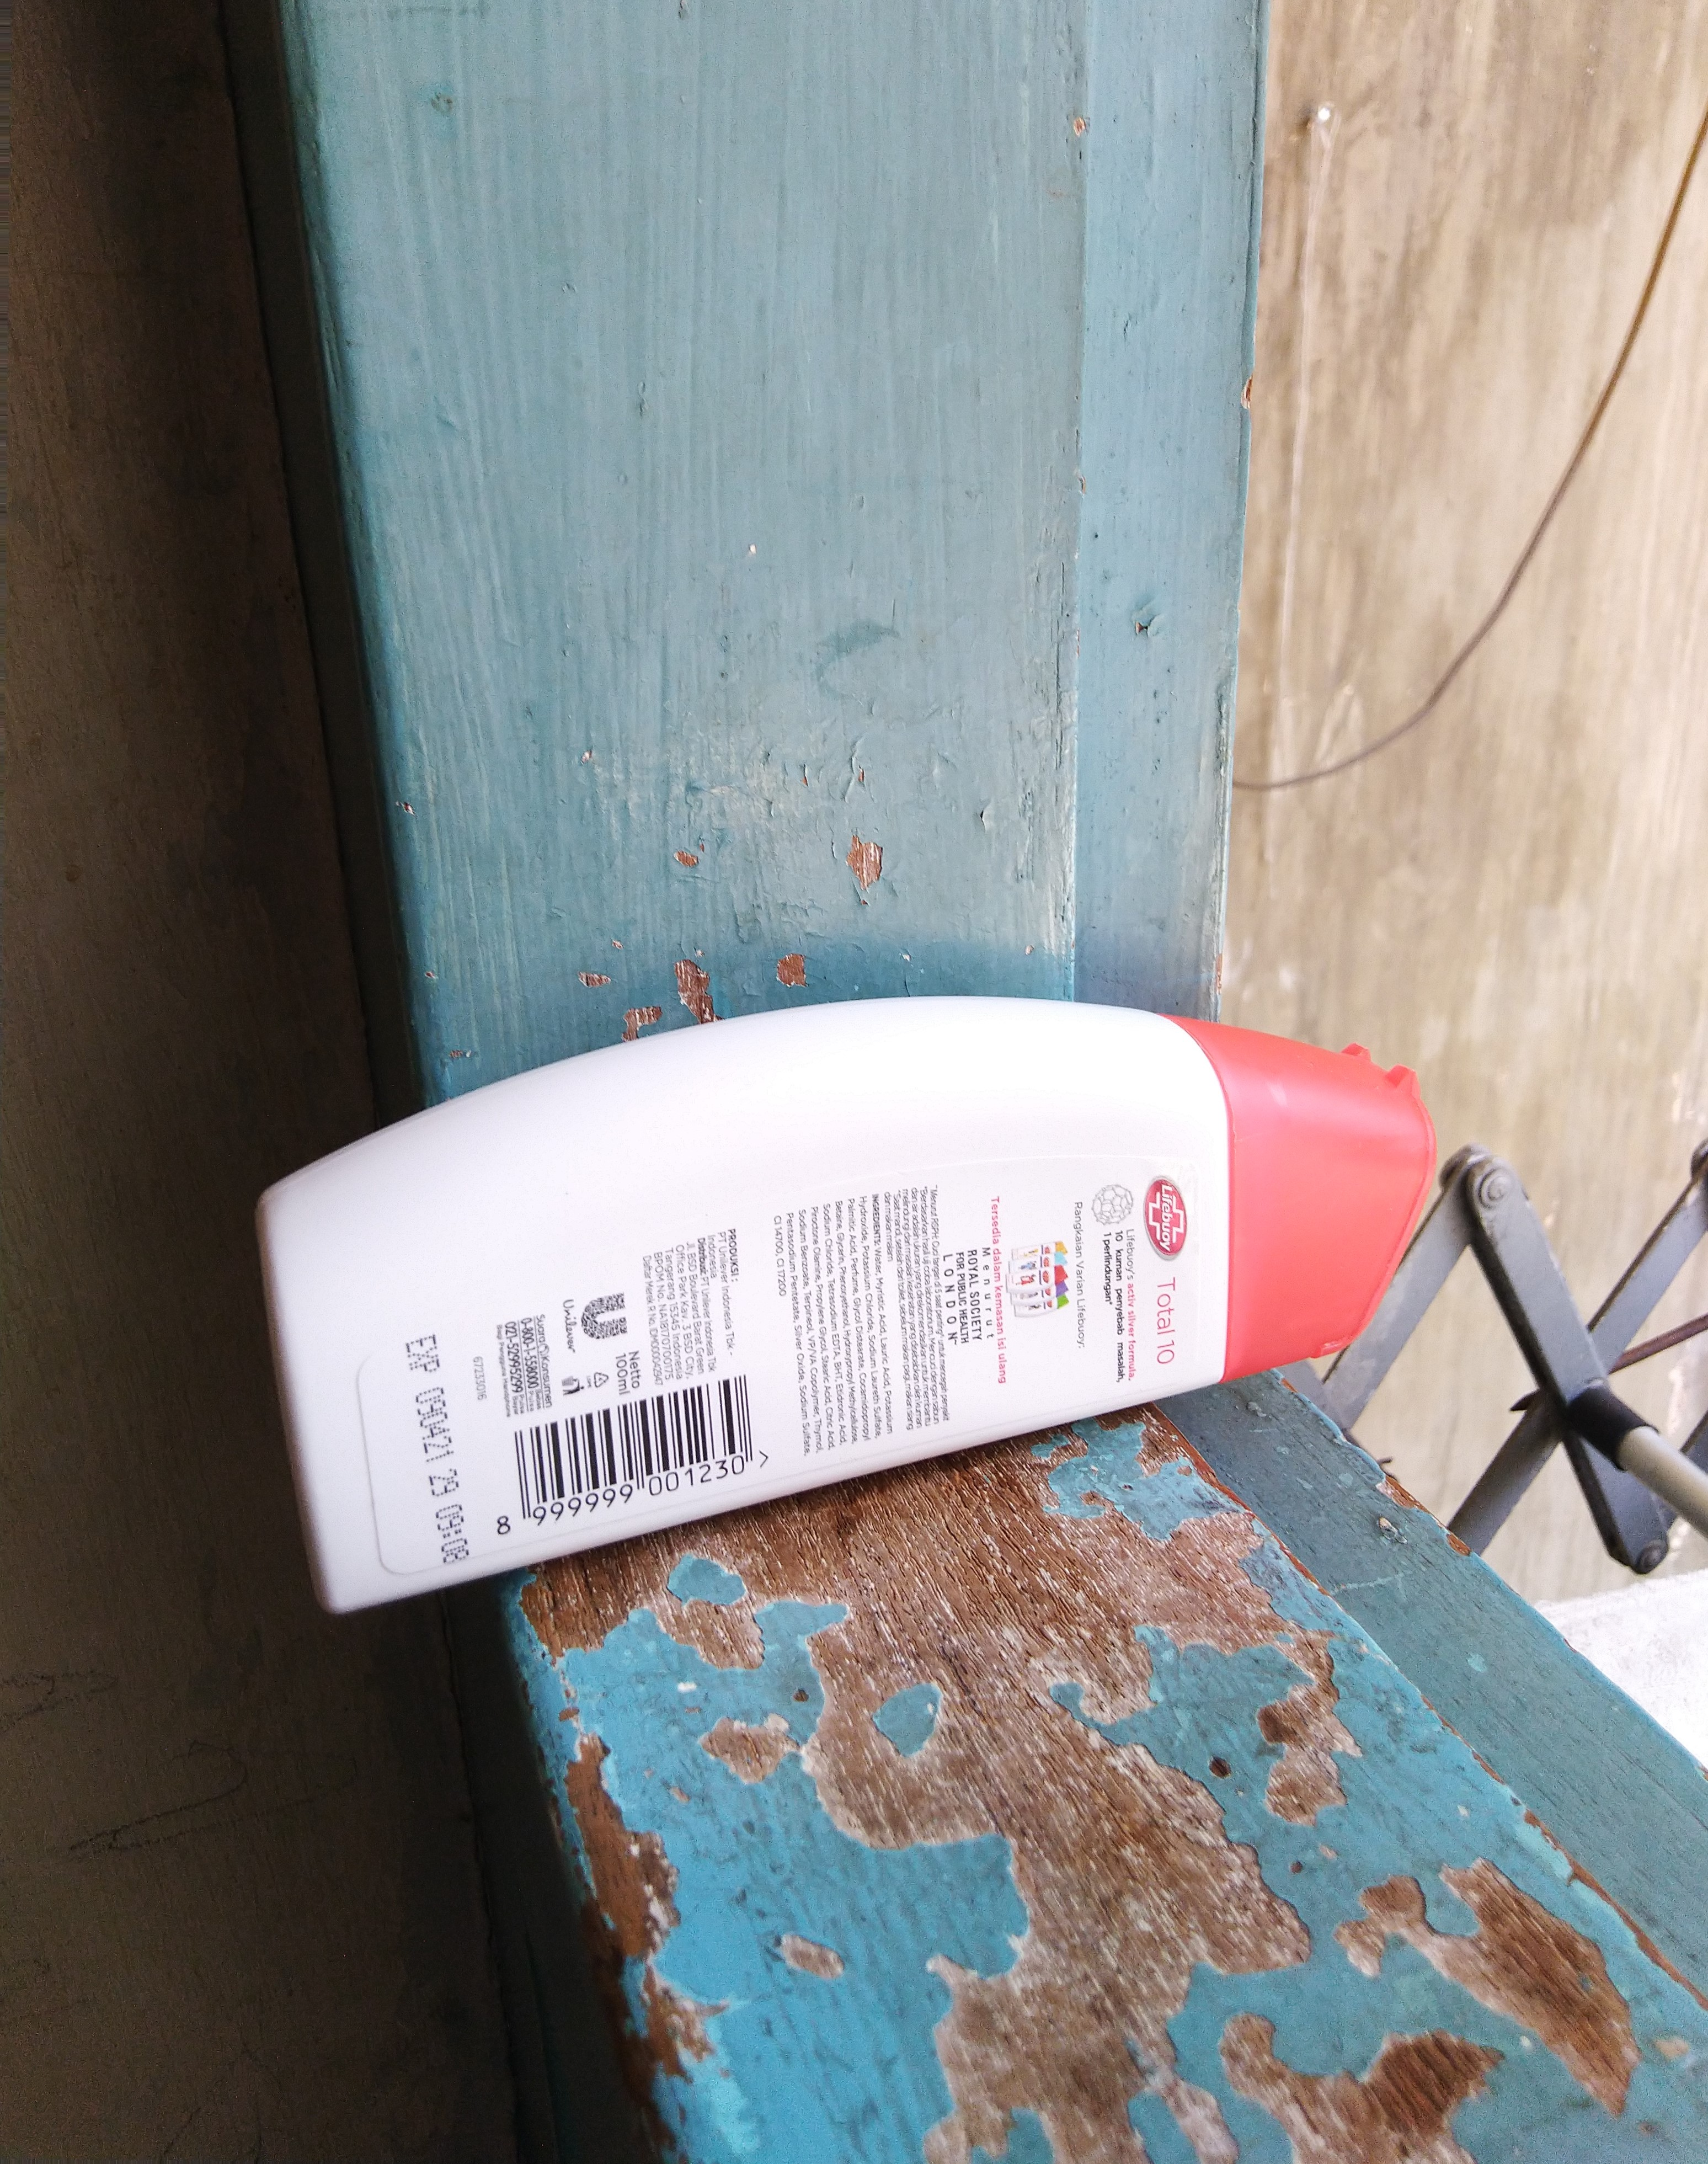HDPE: (260, 984, 1448, 1628)
